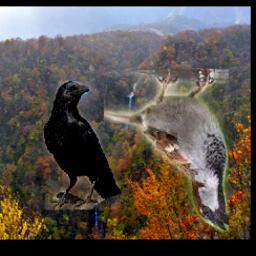Crow: (43, 82, 121, 210)
Sparrow: (105, 69, 230, 232)
